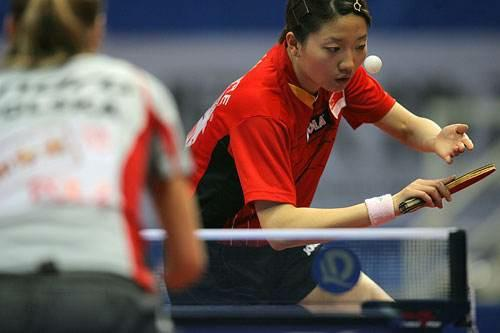ball: (360, 49, 385, 77)
